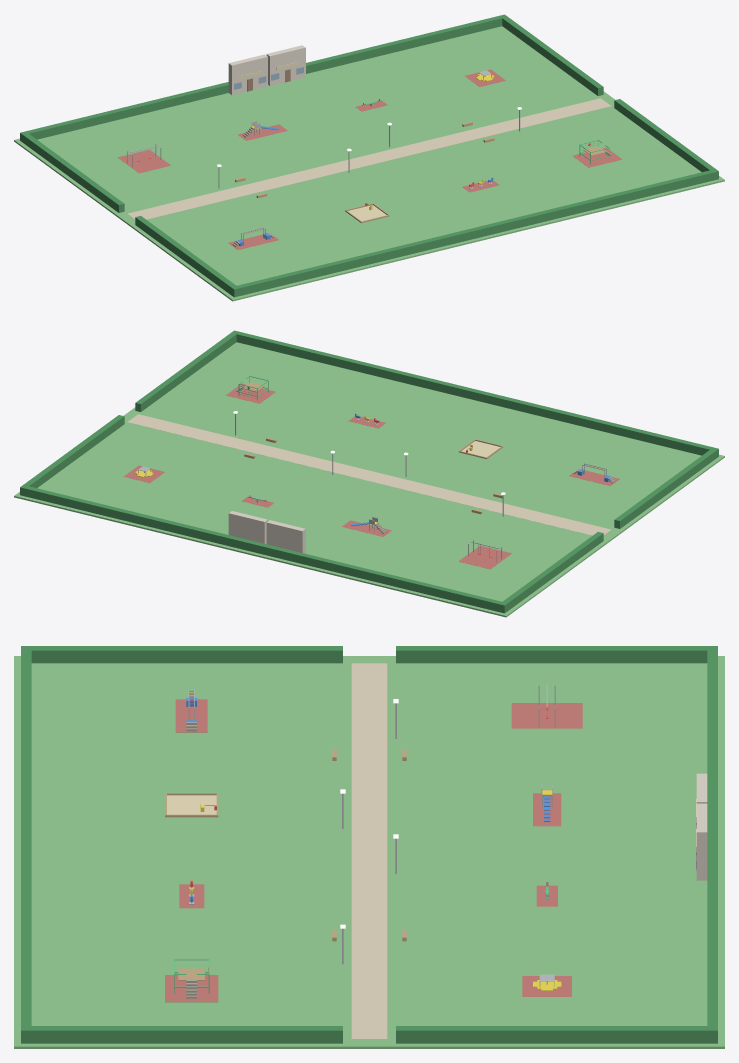
The model's file is playground.glb.
3 renders of one model, top to bottom at view 1: azimuth 30°, elevation 25°; view 2: azimuth 150°, elevation 25°; view 3: azimuth 270°, elevation 25°, orthographic. The views are drawn at different scales.
Visible parts, largest first — view 1: Ground_Playground, Hedge_S_1, decor_Path, Hedge_N_1, Hedge_E_1, Hedge_W_1, Hedge_W_2, Hedge_E_2, Facade_1, Facade_2, decor_Swing_Pad, decor_Frame_Pad; view 2: Ground_Playground, Hedge_N_1, Hedge_S_1, decor_Path, Hedge_E_2, Hedge_W_2, Hedge_W_1, Hedge_E_1, Facade_1, Facade_2, decor_Swing_Pad, decor_Frame_Pad; view 3: Ground_Playground, decor_Path, Hedge_E_1, Hedge_E_2, Hedge_W_1, Hedge_W_2, Hedge_N_1, Hedge_S_1, decor_Swing_Pad, decor_Frame_Pad, decor_Sandbox_Sand, Facade_2 (+3 smaller).
Part boxes in pixels (box(x1,y1,x2,y2)): Ground_Playground: box(14, 26, 724, 301); Hedge_S_1: box(231, 169, 718, 297); decor_Path: box(127, 98, 611, 219); Hedge_N_1: box(20, 14, 507, 142); Hedge_E_1: box(502, 17, 603, 95); Hedge_W_1: box(23, 134, 124, 212); Hedge_W_2: box(135, 216, 236, 294); Hedge_E_2: box(614, 99, 715, 171); Facade_1: box(228, 54, 267, 95); Facade_2: box(266, 45, 305, 85); decor_Swing_Pad: box(117, 149, 170, 173); decor_Frame_Pad: box(572, 147, 622, 167); Ground_Playground: box(14, 342, 724, 617); Hedge_N_1: box(20, 485, 507, 613); Hedge_S_1: box(231, 330, 718, 458); decor_Path: box(127, 414, 611, 535); Hedge_E_2: box(135, 333, 236, 411); Hedge_W_2: box(614, 450, 715, 528); Hedge_W_1: box(502, 532, 603, 610); Hedge_E_1: box(23, 415, 124, 487); Facade_1: box(266, 520, 305, 553); Facade_2: box(228, 511, 267, 544); decor_Swing_Pad: box(458, 545, 511, 569); decor_Frame_Pad: box(226, 383, 275, 403); Ground_Playground: box(14, 656, 724, 1048); decor_Path: box(351, 663, 387, 1038); Hedge_E_1: box(396, 1026, 707, 1043); Hedge_E_2: box(31, 1026, 342, 1043); Hedge_W_1: box(396, 646, 707, 663); Hedge_W_2: box(31, 646, 342, 663); Hedge_N_1: box(707, 646, 717, 1043); Hedge_S_1: box(21, 646, 31, 1043); decor_Swing_Pad: box(511, 703, 582, 728); decor_Frame_Pad: box(165, 975, 218, 1002); decor_Sandbox_Sand: box(167, 795, 216, 814); Facade_2: box(696, 803, 707, 880).
Bounding box in the file's own units: 104 × 6.3 × 80.
